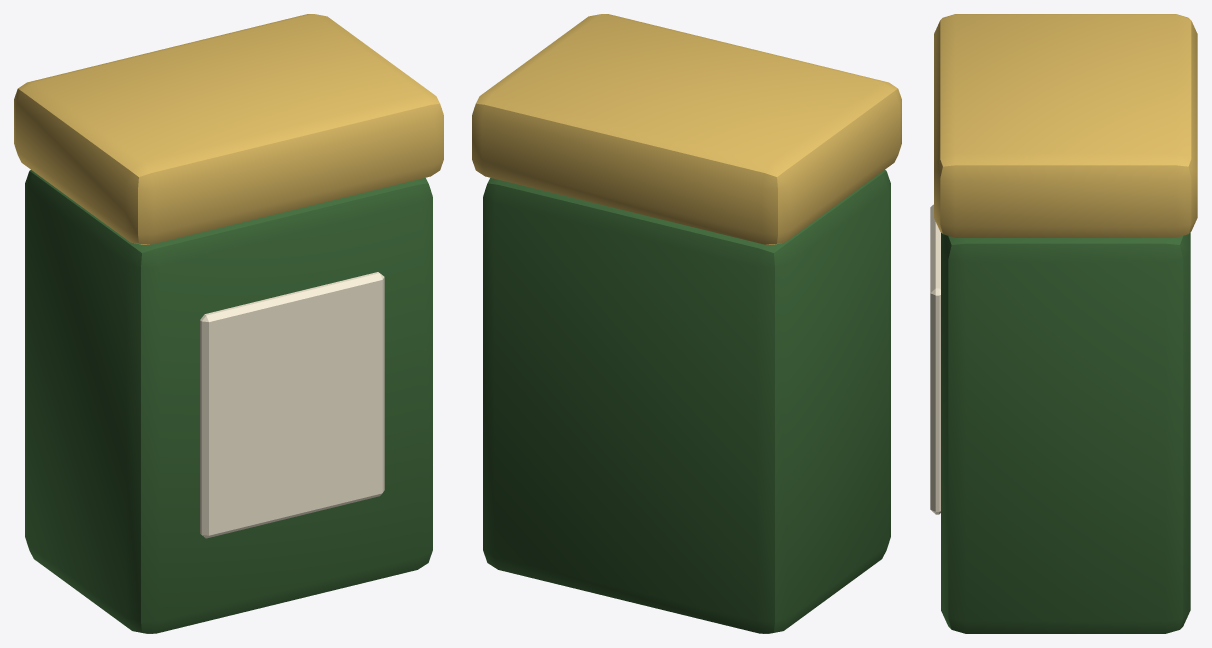
Rendered from tea_box.glb.
The picture shows the model from 3 angles, left to right: view 1: azimuth 30°, elevation 25°; view 2: azimuth 150°, elevation 25°; view 3: azimuth 270°, elevation 25°; orthographic projection.
Parts seen in each view (by area): view 1: tea_box; view 2: tea_box; view 3: tea_box.
Boxes of the visible parts, <box> form: tea_box: <box>14,14,443,633</box>; tea_box: <box>472,14,901,633</box>; tea_box: <box>930,14,1197,633</box>.
Bounding box in the file's own units: 0.104 × 0.15 × 0.075.
